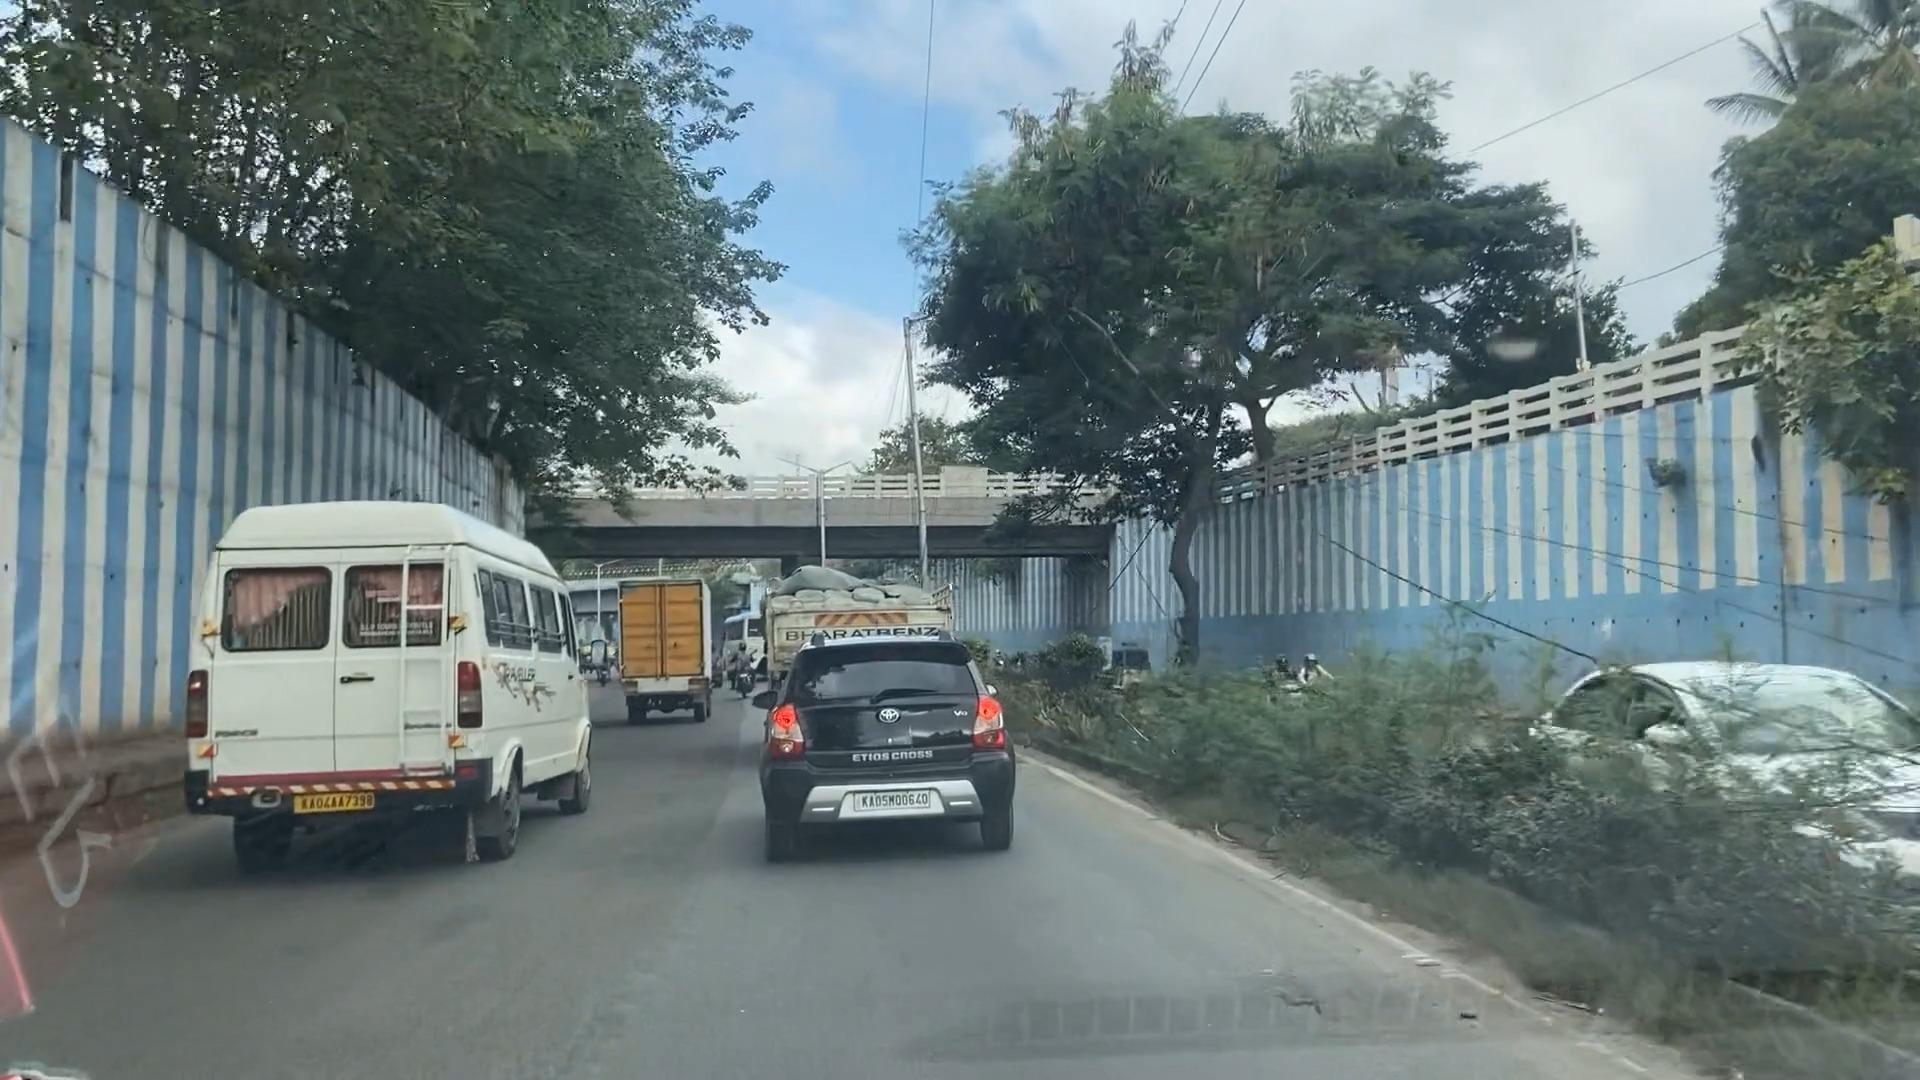HMV: (181, 493, 593, 898), (617, 582, 708, 717)
LMV: (762, 638, 1014, 860)
RoadDamages: (1263, 960, 1361, 1067)
